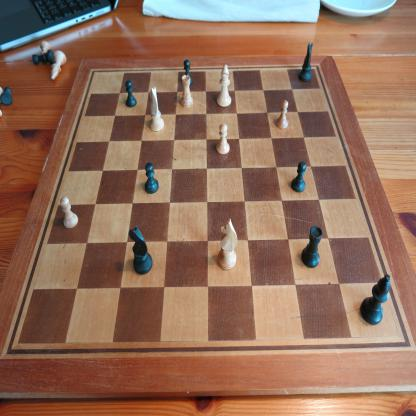black-bishop: (360, 273, 392, 326)
black-knight: (128, 225, 154, 276), (298, 41, 314, 82)
black-pawn: (144, 162, 160, 195), (291, 161, 306, 193), (125, 79, 137, 108), (184, 59, 194, 85)
black-rook: (301, 224, 323, 269), (31, 49, 55, 66)
white-bishop: (216, 64, 232, 107), (50, 49, 67, 81)
white-knight: (217, 218, 238, 271), (149, 86, 164, 132)
white-pawn: (60, 196, 78, 229), (216, 124, 230, 155), (275, 99, 289, 130)
white-rook: (180, 74, 194, 109)
